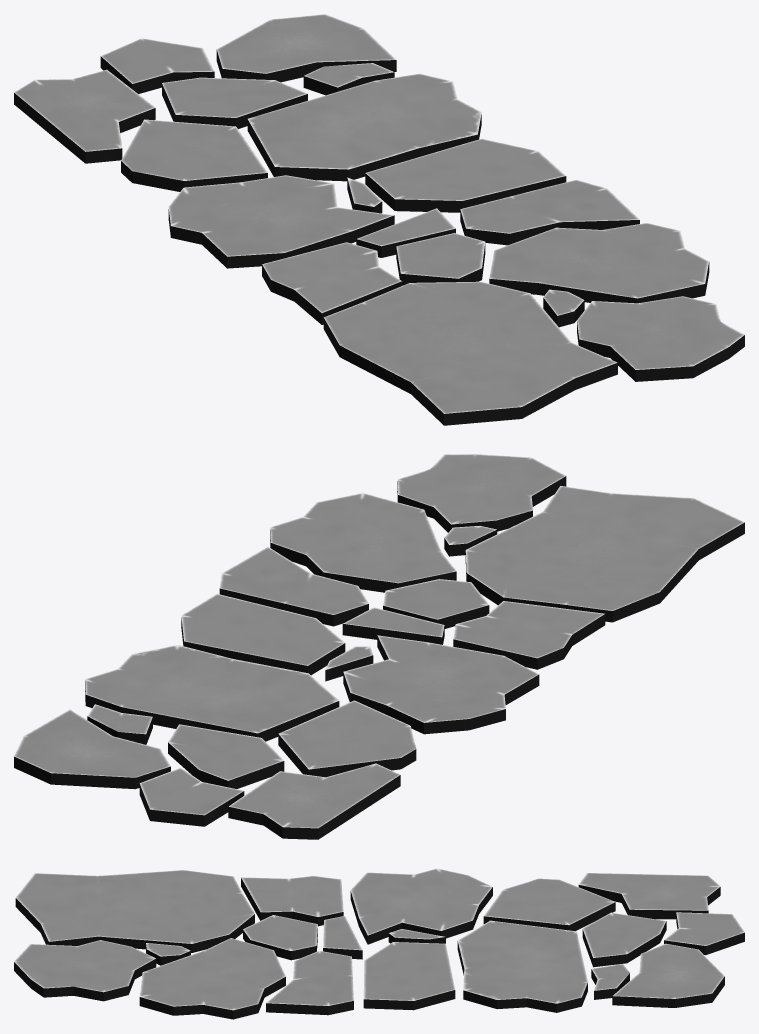
The model's file is path.fbx.
The picture shows the model from 3 angles, top to bottom: view 1: azimuth 30°, elevation 25°; view 2: azimuth 150°, elevation 25°; view 3: azimuth 270°, elevation 25°; orthographic projection. The views are drawn at different scales.
Visible parts, largest first — view 1: sciezka; view 2: sciezka; view 3: sciezka.
Part boxes in pixels (<box>): sciezka: <box>14,14,744,425</box>; sciezka: <box>14,454,744,839</box>; sciezka: <box>14,868,744,1019</box>.
Bounding box in the file's own units: 98.28 × 2.96 × 214.
Materials: 1 (1 with a texture image).
